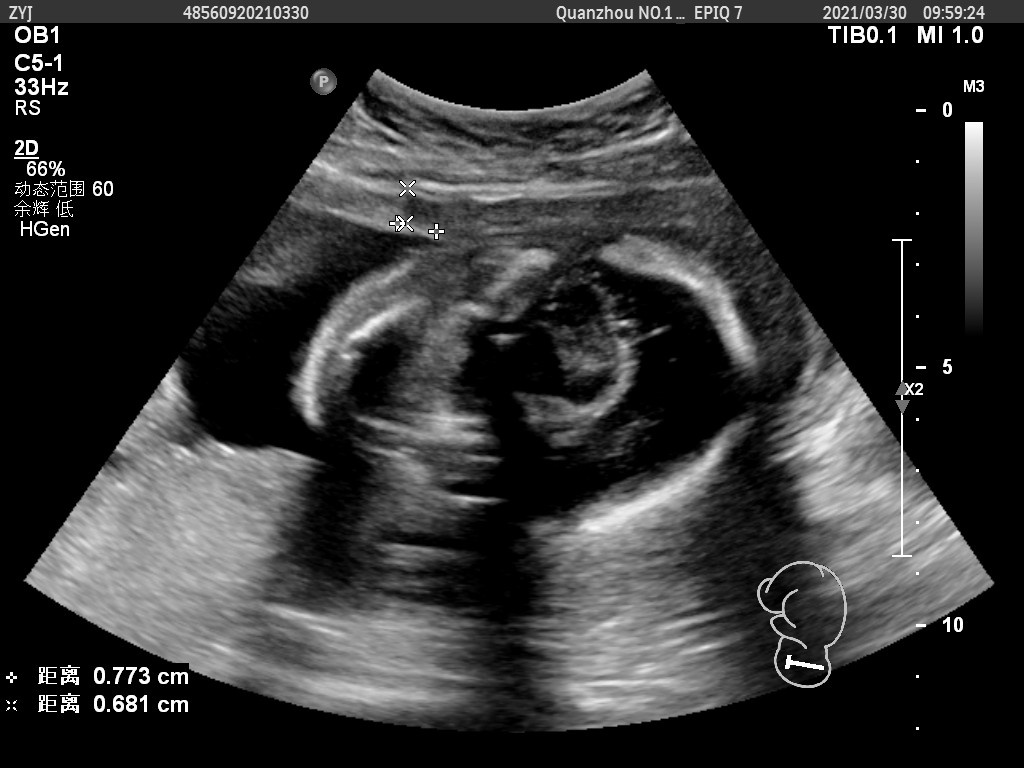肌瘤: (404, 197, 434, 221)
